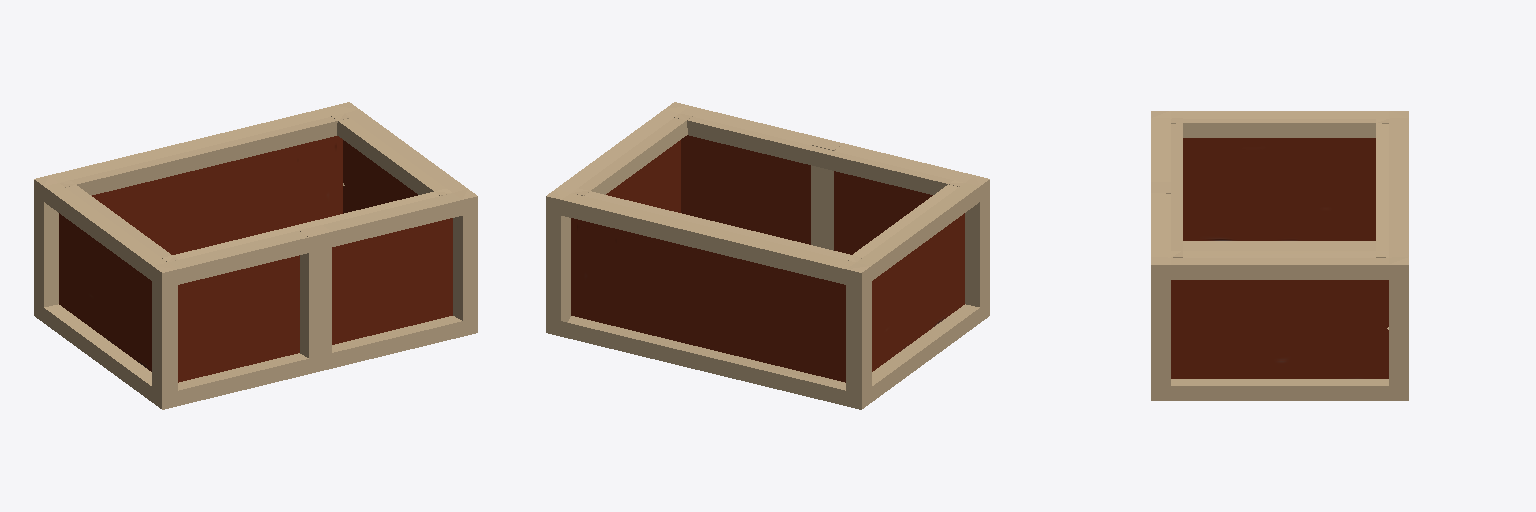
The picture shows the model from 3 angles: view 1: azimuth 30°, elevation 25°; view 2: azimuth 150°, elevation 25°; view 3: azimuth 270°, elevation 25°; orthographic projection.
Visible parts, largest first — view 1: kayu_dalam; view 2: kayu_dalam; view 3: kayu_dalam.
Boxes of the visible parts, box(x1,y1,x2,y2) form: kayu_dalam: box(34, 102, 477, 409); kayu_dalam: box(546, 102, 989, 409); kayu_dalam: box(1151, 111, 1408, 400).
Size of the model in its own units: 2.83 by 1.17 by 2.
Materials: 2 (1 with a texture image).